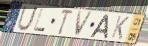A: (89, 14, 110, 40)
K: (110, 14, 131, 41)
L: (33, 8, 47, 33)
T: (57, 8, 74, 36)
U: (16, 6, 40, 33)
V: (73, 10, 94, 37)
